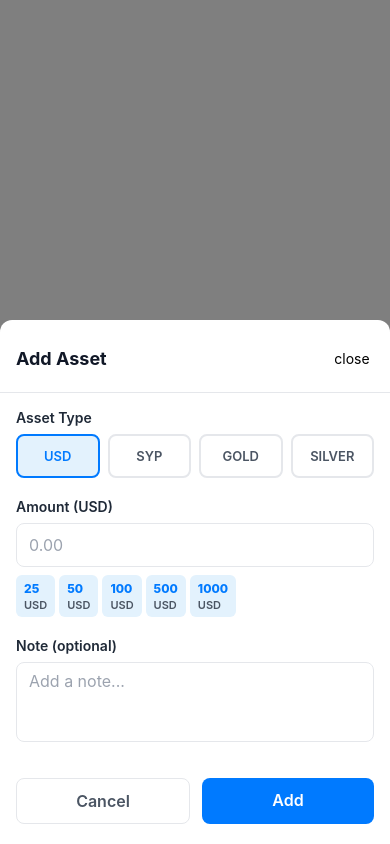
AssetFormModal › Add Mode › should sanitize non-numeric amount input
In the field named "Amount (USD)": coordinates (195, 545) 16,523 -> 374,567, type "12abc.3.4"
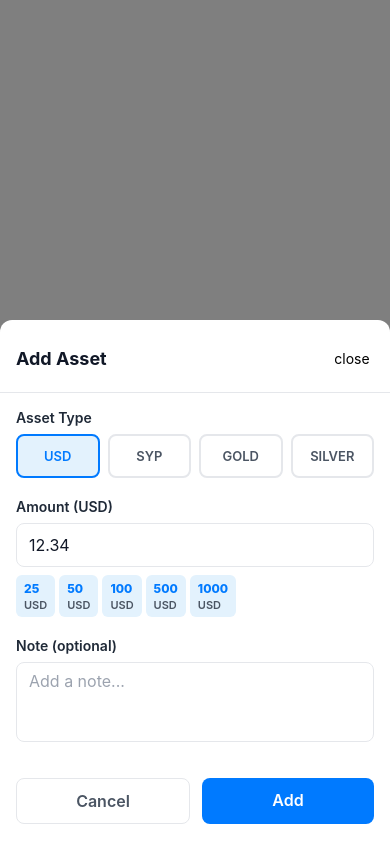
Now the field named "Amount (USD)" holds "12.34", box 16,523 -> 374,567
